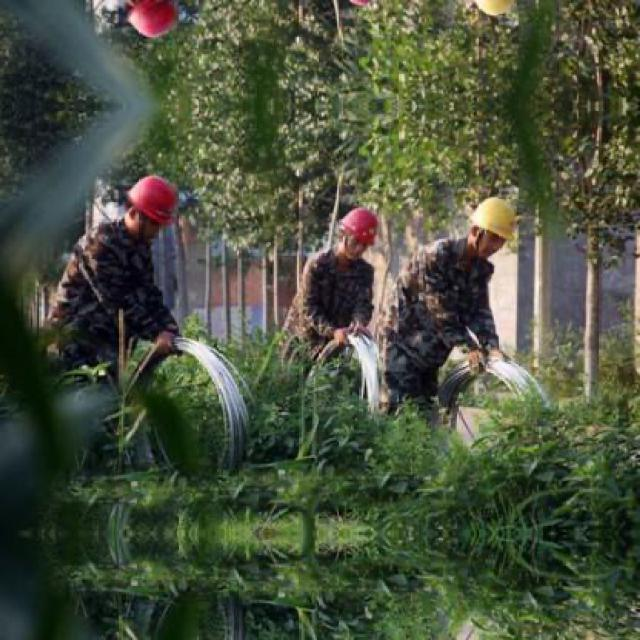con casco: (118, 164, 186, 240), (472, 183, 516, 250), (331, 211, 372, 270)
